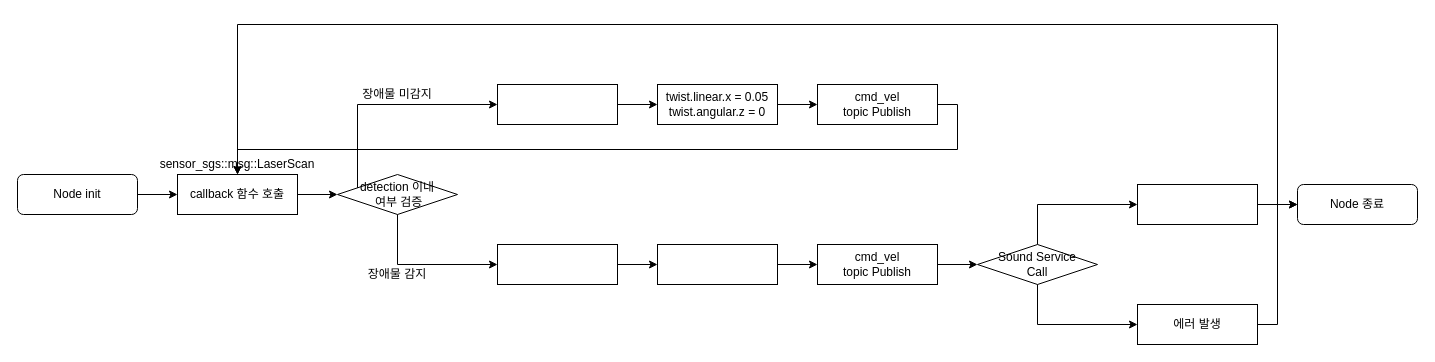
The diagram is 1435 pixels wide and 362 high, and some of its shapes have lost their labels. The shapes that lost their labels are listed below. From the top down, each one's box as (x1, y1, x2, y2) in pixels, then its label:
(496, 84, 618, 124): 가장 가까운 장애물 거리 출력
(1136, 184, 1258, 224): 소리 출력
(496, 244, 618, 284): 장애물 감지 Warning
(656, 244, 778, 284): twist.linear.x = 0 twist.angular.z = 0.5
